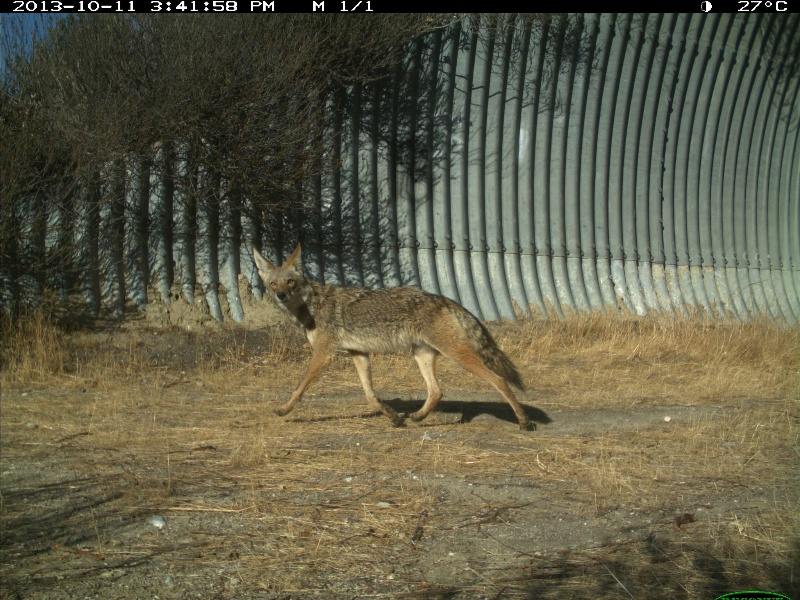coyote: (249, 242, 542, 439)
